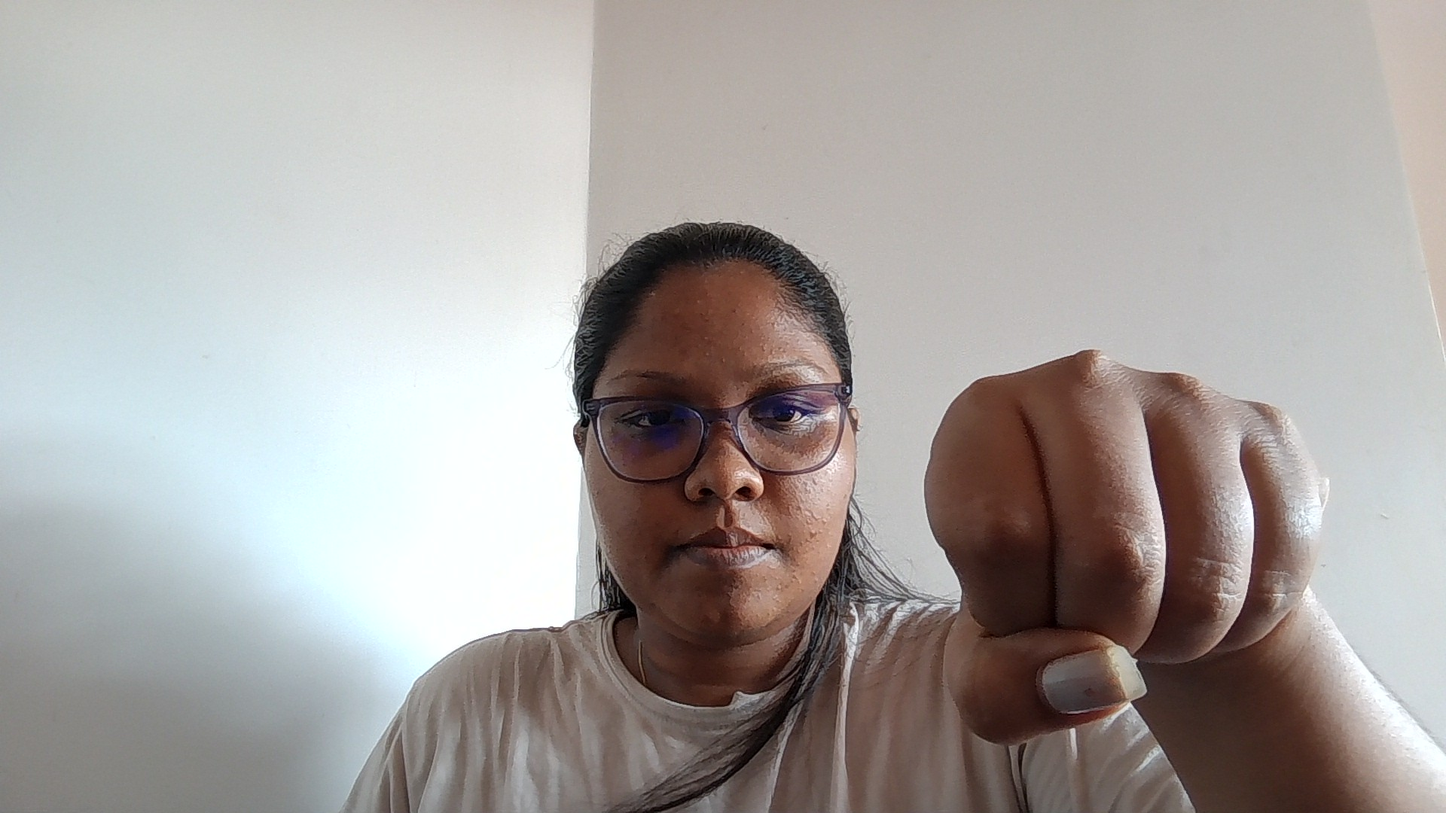Yes: (915, 226, 1394, 748)
